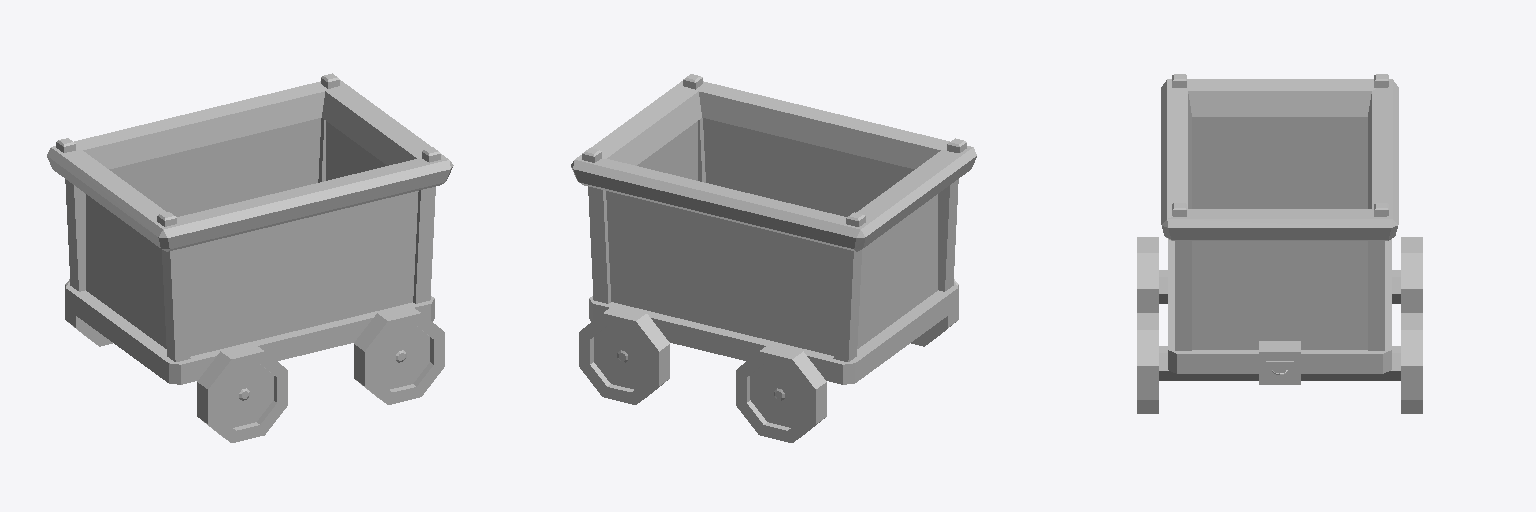
The model's file is Charriot.obj.
3 renders of one model, left to right at view 1: azimuth 30°, elevation 25°; view 2: azimuth 150°, elevation 25°; view 3: azimuth 270°, elevation 25°, orthographic.
Visible parts, largest first — view 1: Charriot; view 2: Charriot; view 3: Charriot.
Part boxes in pixels (bbox=[...]): Charriot: bbox=[47, 73, 453, 442]; Charriot: bbox=[571, 74, 976, 442]; Charriot: bbox=[1137, 74, 1422, 413].
Bounding box in the file's own units: 115 × 79.65 × 92.45.